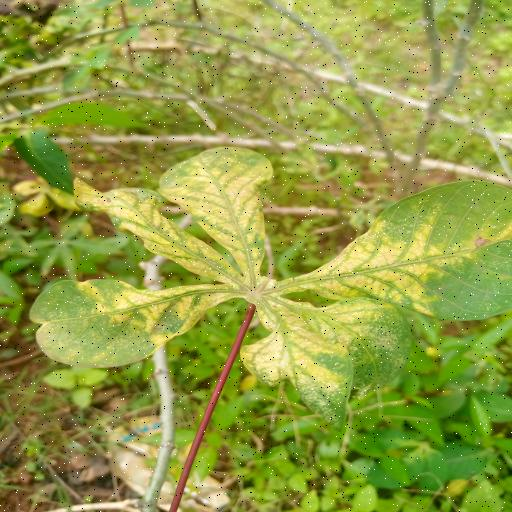Cassava_Mosaic: (34, 145, 512, 426)
